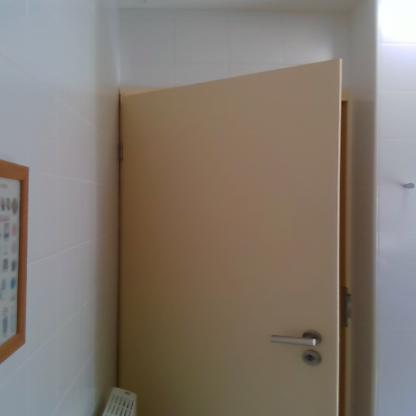door: (119, 95, 339, 416)
hinged: (117, 138, 127, 160)
lever: (266, 334, 322, 348)
